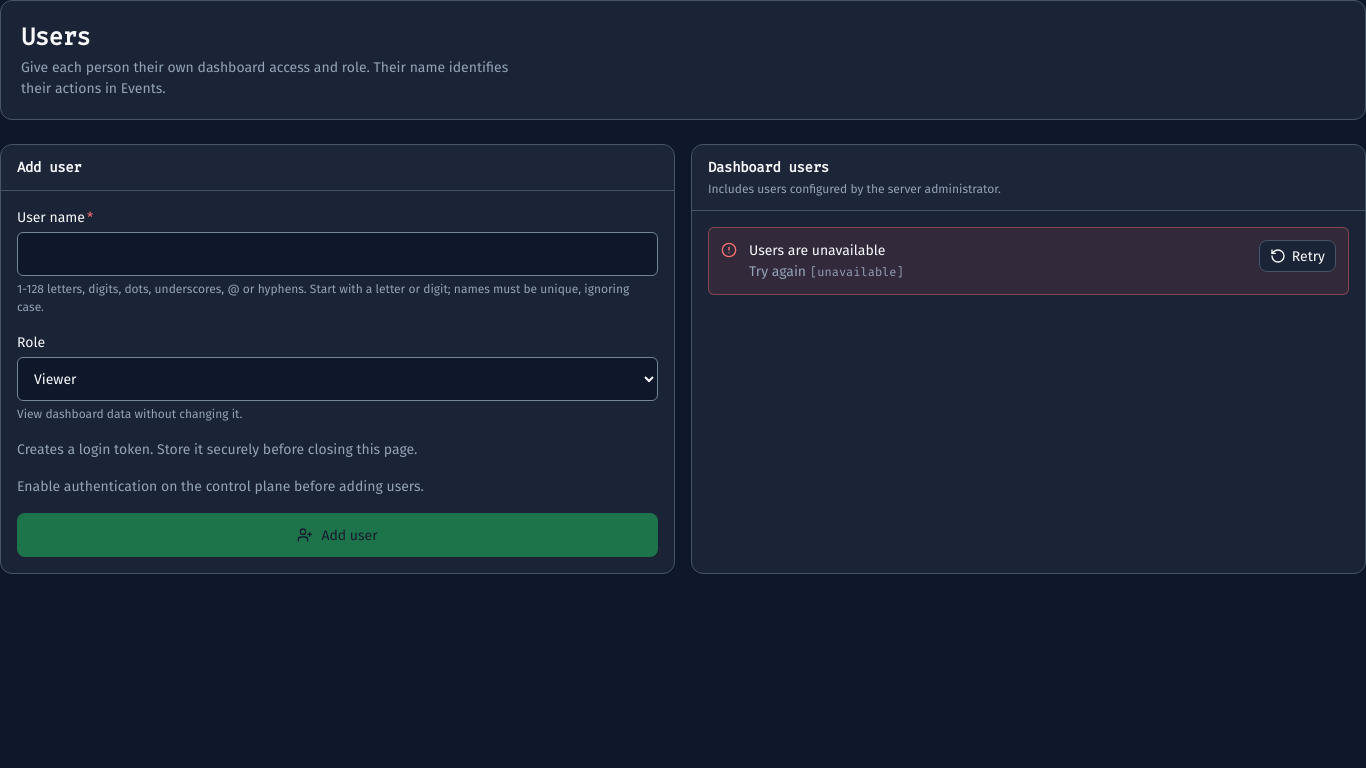
dashboard user access › retries a failed user list
Expected: the message "Users are unavailable Try again[unavailable] Retry" is shown, [708,227,1349,295]
Click the button "Retry" at [1297, 256], box [1259,240,1336,272]
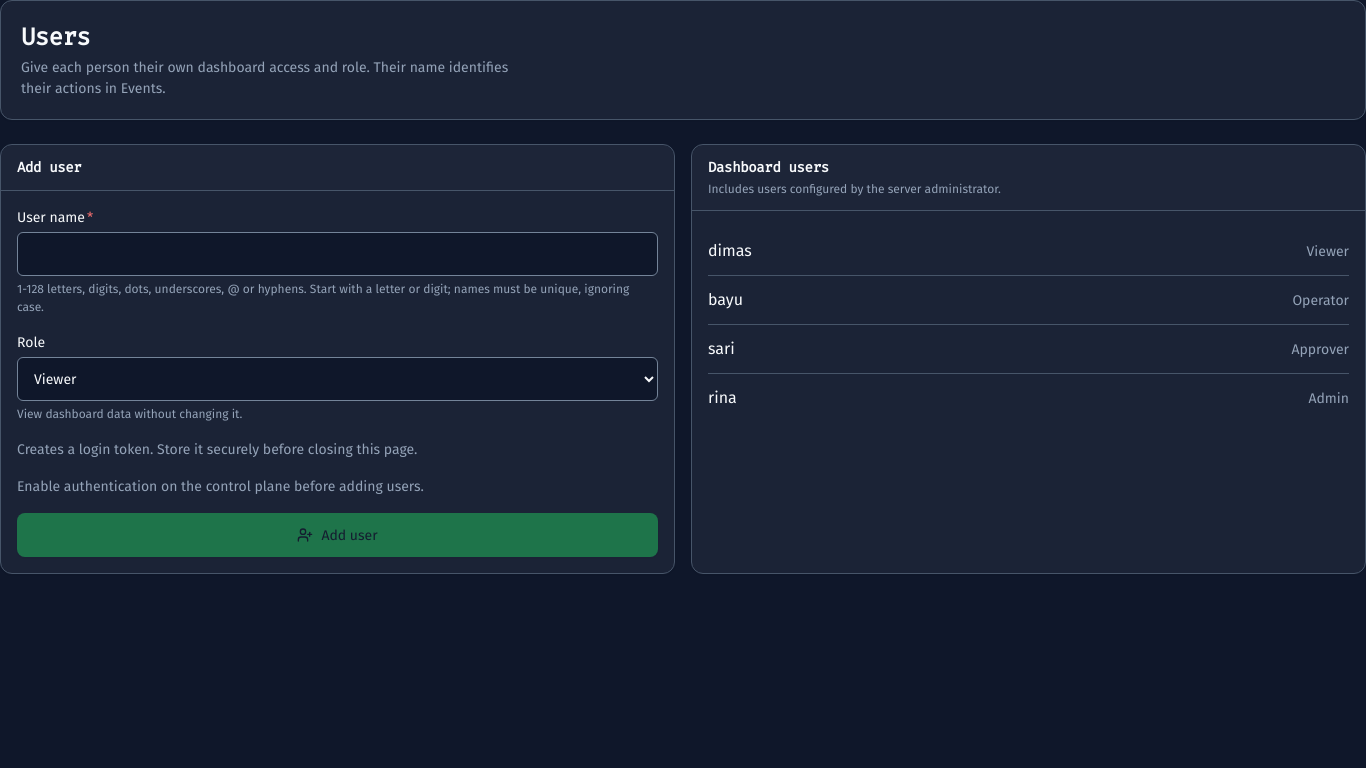
Result: the text "rina" is shown at [708,386,737,410]
